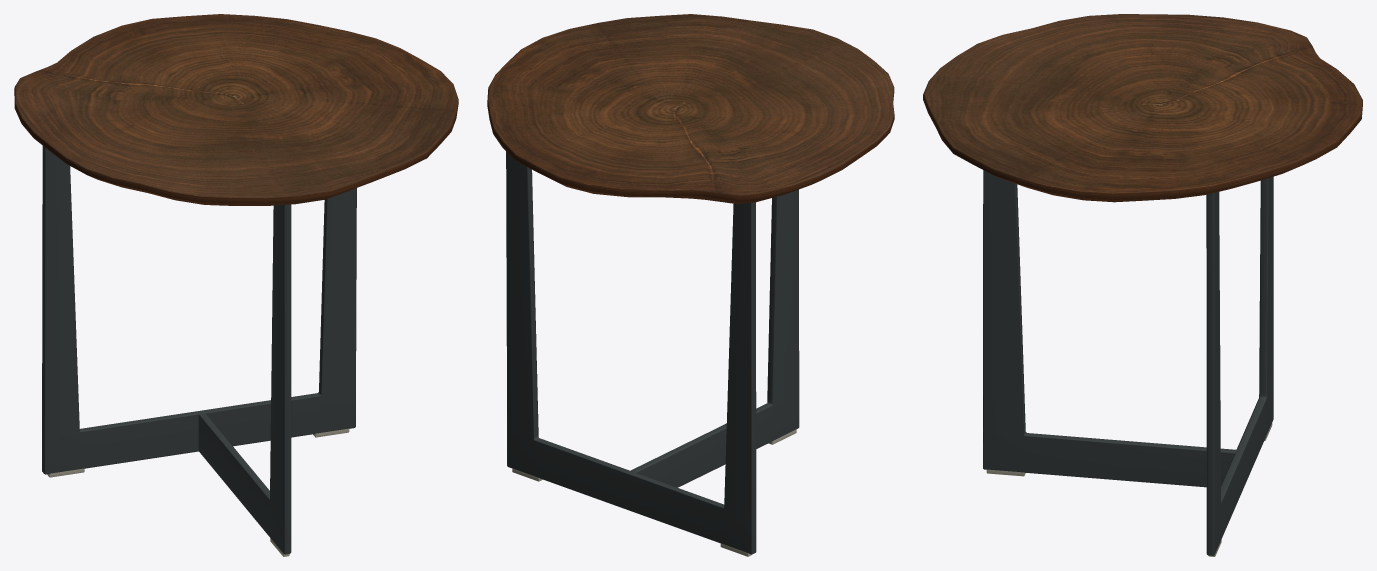
Rendered from table_B072ZLCB3M.glb.
The picture shows the model from 3 angles, left to right: view 1: azimuth 30°, elevation 25°; view 2: azimuth 150°, elevation 25°; view 3: azimuth 270°, elevation 25°; orthographic projection. The views are drawn at different scales.
Parts seen in each view (by area): view 1: RootNode; view 2: RootNode; view 3: RootNode.
Part boxes in pixels (box(x1,y1,x2,y2)): RootNode: box(14, 14, 458, 556); RootNode: box(487, 14, 894, 556); RootNode: box(923, 14, 1362, 556).
Size of the model in its own units: 0.4767 by 0.4764 by 0.4936.
1 material, 1 textured.
